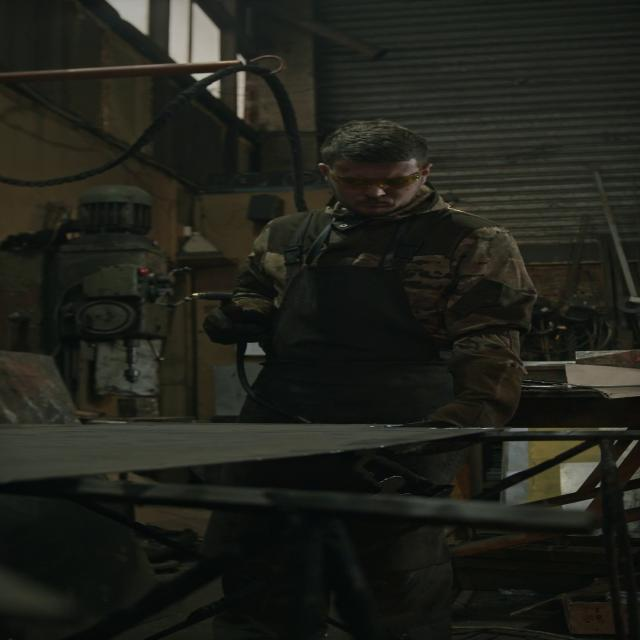gloved: (202, 302, 269, 345)
